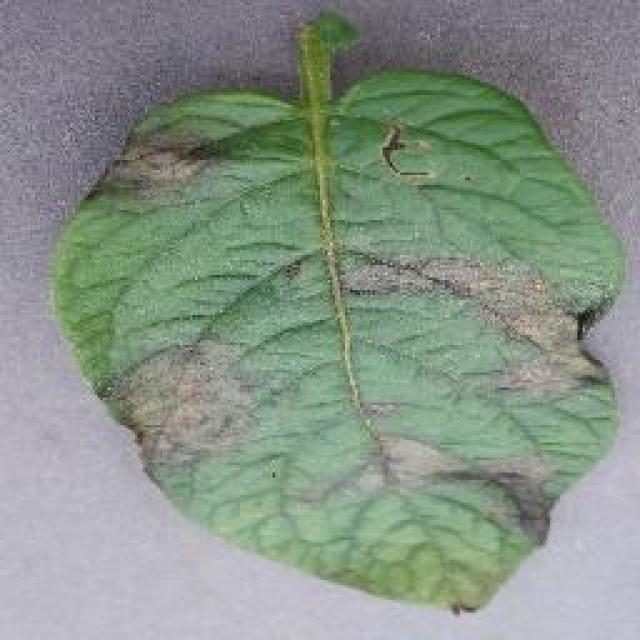Potato___Late_blight: (50, 12, 627, 618)
